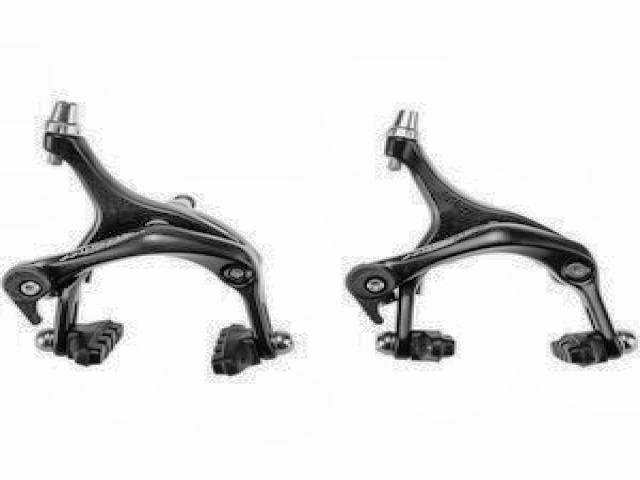rim_brake: (6, 99, 293, 379), (344, 108, 637, 370)
